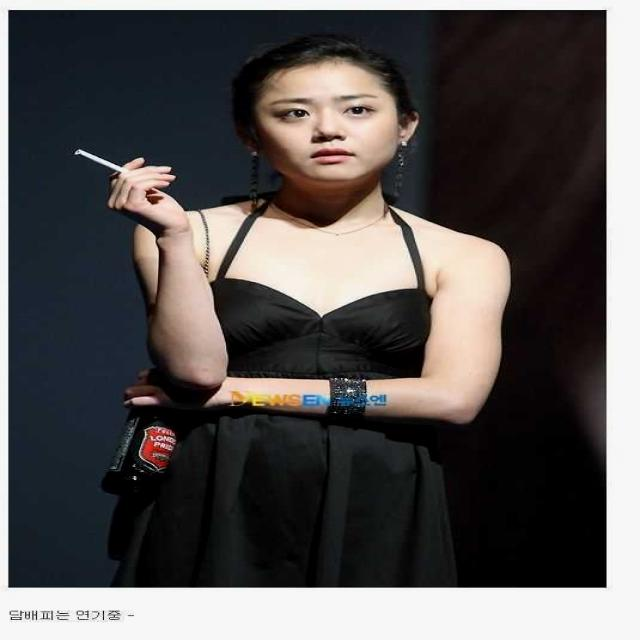Smooking: (58, 139, 128, 181)
